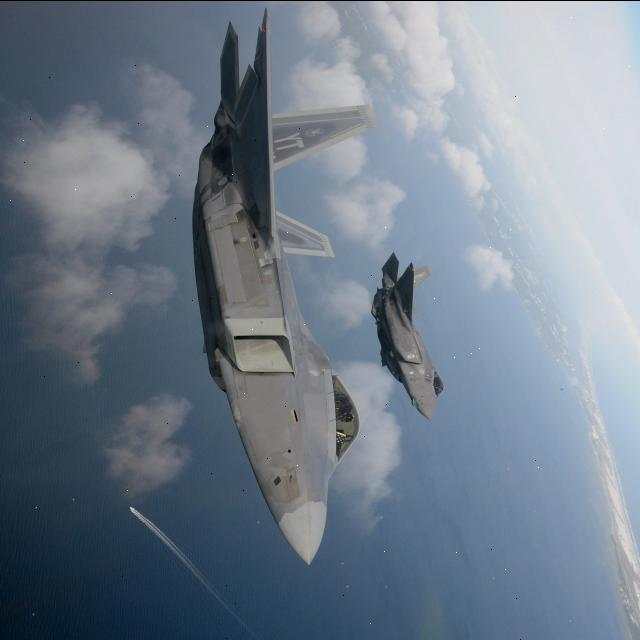F22: (136, 0, 398, 574), (333, 237, 511, 433)
